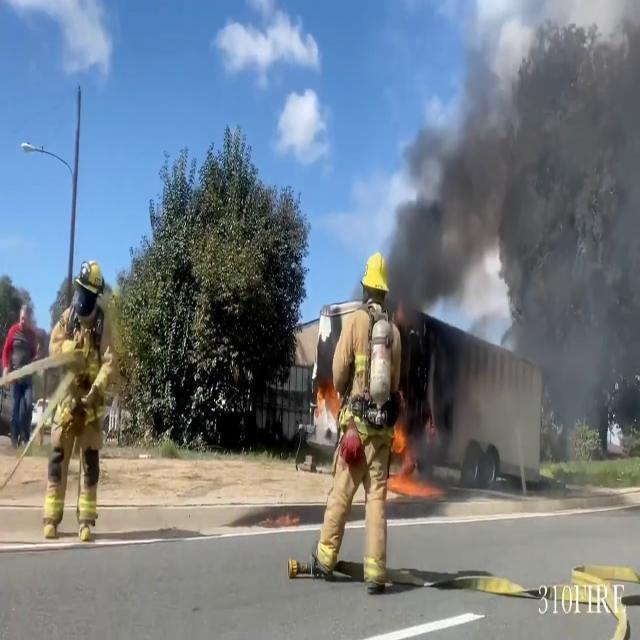Fire: (388, 414, 426, 489)
Smoke: (381, 0, 640, 388)
